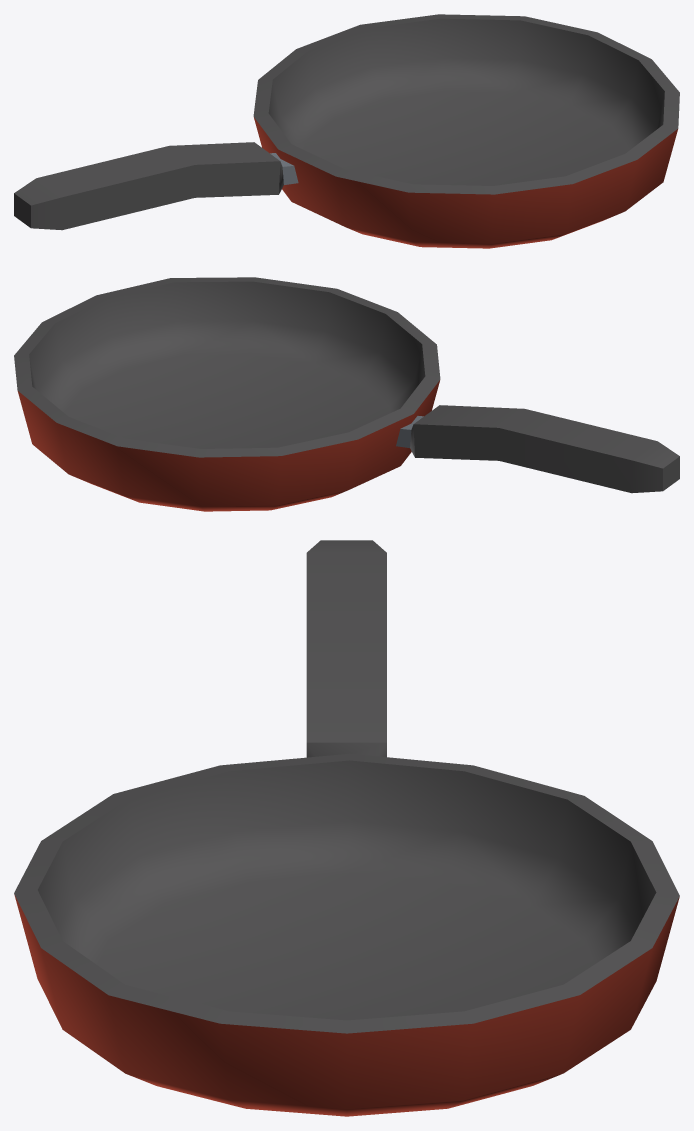
File: SM_Prop_Pan_01.obj
The picture shows the model from 3 angles, top to bottom: view 1: azimuth 30°, elevation 25°; view 2: azimuth 150°, elevation 25°; view 3: azimuth 270°, elevation 25°; orthographic projection. The views are drawn at different scales.
Parts seen in each view (by area): view 1: SM_Prop_Pan_01_Mat_SwatchOverlay_PolygonOffice_01_Inst; view 2: SM_Prop_Pan_01_Mat_SwatchOverlay_PolygonOffice_01_Inst; view 3: SM_Prop_Pan_01_Mat_SwatchOverlay_PolygonOffice_01_Inst.
Part boxes in pixels (x1=…): SM_Prop_Pan_01_Mat_SwatchOverlay_PolygonOffice_01_Inst: x1=14, y1=14, x2=679, y2=248; SM_Prop_Pan_01_Mat_SwatchOverlay_PolygonOffice_01_Inst: x1=14, y1=277, x2=679, y2=511; SM_Prop_Pan_01_Mat_SwatchOverlay_PolygonOffice_01_Inst: x1=14, y1=540, x2=679, y2=1116.
Bounding box in the file's own units: 0.6079 × 0.0838 × 0.3621.
Materials: 1 (1 with a texture image).
